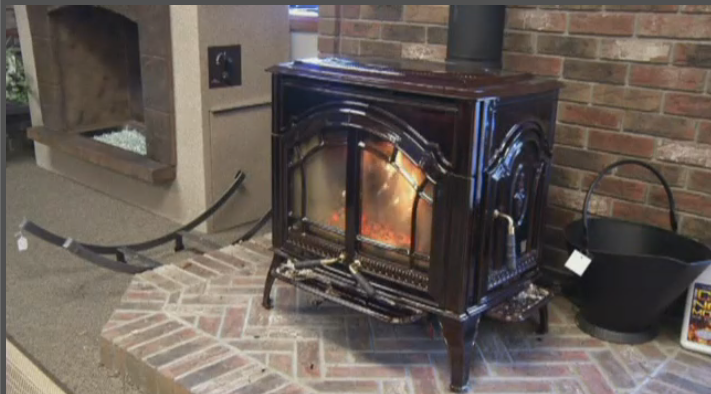stove: (261, 2, 556, 333)
